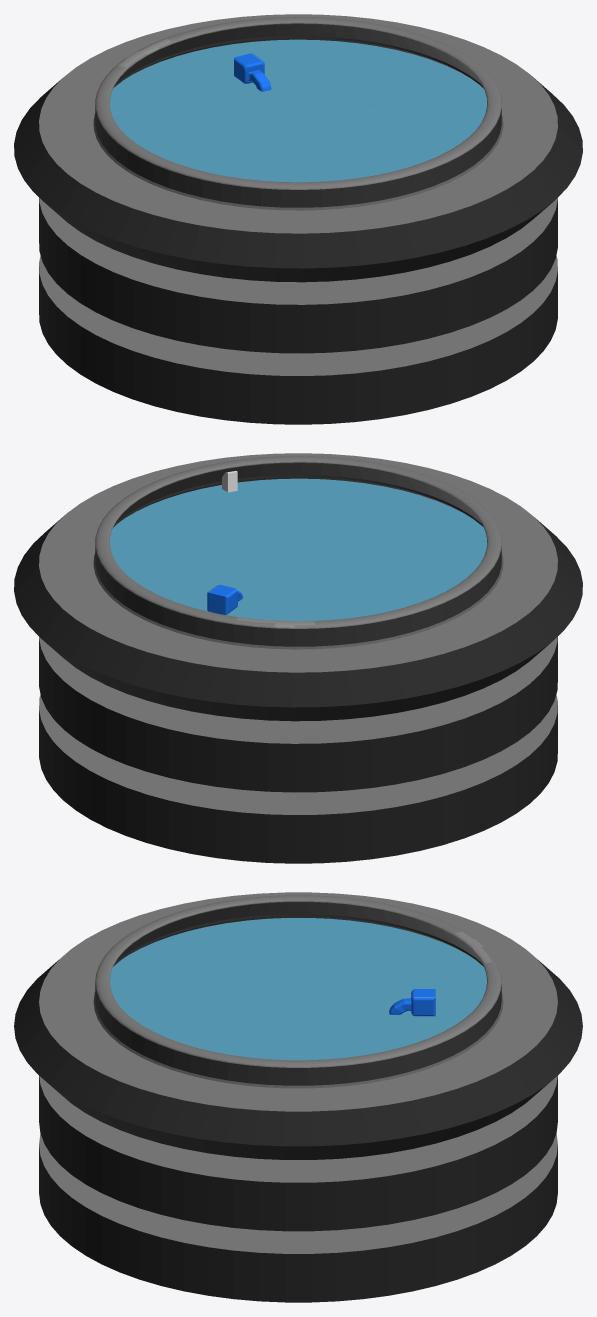
Rendered from Platform2.fbx.
The picture shows the model from 3 angles, top to bottom: view 1: azimuth 30°, elevation 25°; view 2: azimuth 150°, elevation 25°; view 3: azimuth 270°, elevation 25°; orthographic projection.
Parts seen in each view (by area): view 1: building_019; view 2: building_019; view 3: building_019.
Boxes of the visible parts, x1,y1,x2,y2 form: building_019: (14,14,582,424); building_019: (14,453,582,863); building_019: (14,892,582,1302).
Size of the model in its own units: 5482 by 2435 by 5489.
5 materials, 1 textured.
